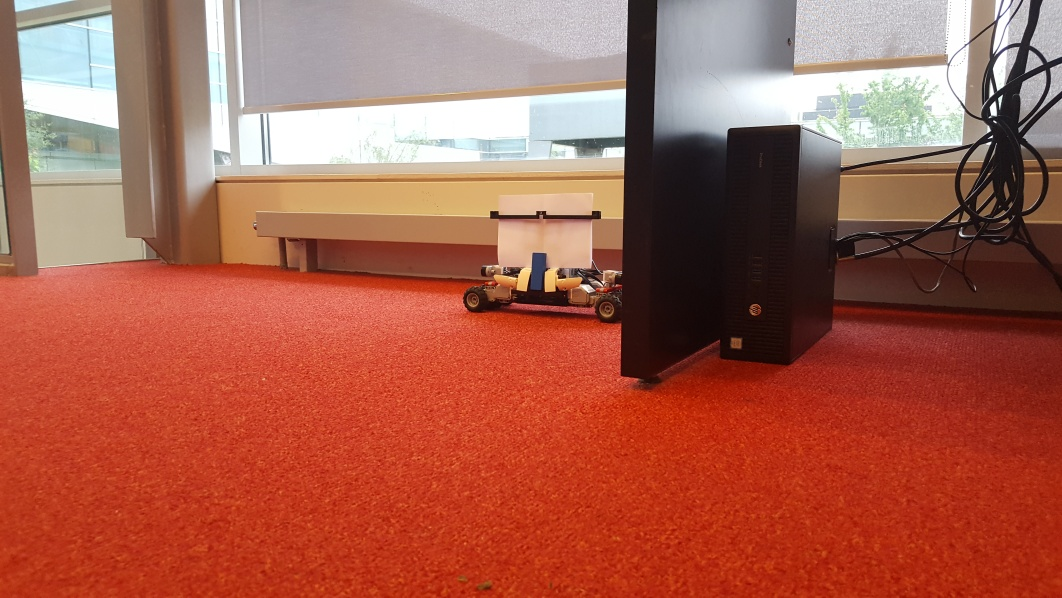car: (463, 196, 627, 326)
